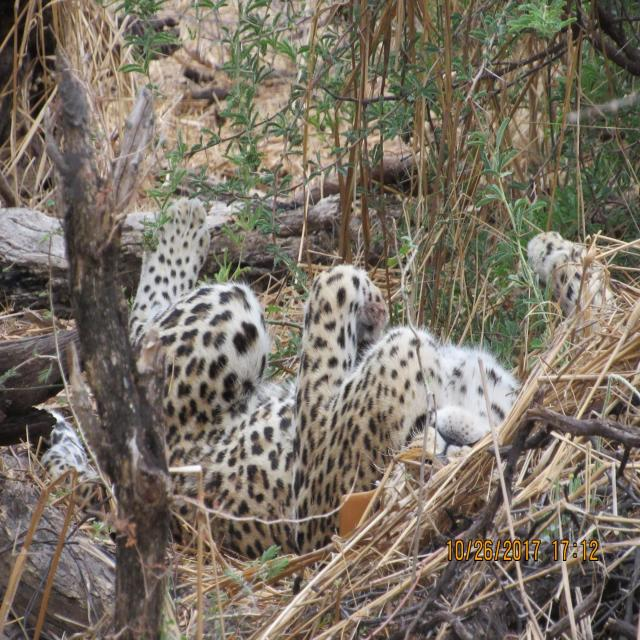Leopard: (12, 189, 561, 576)
